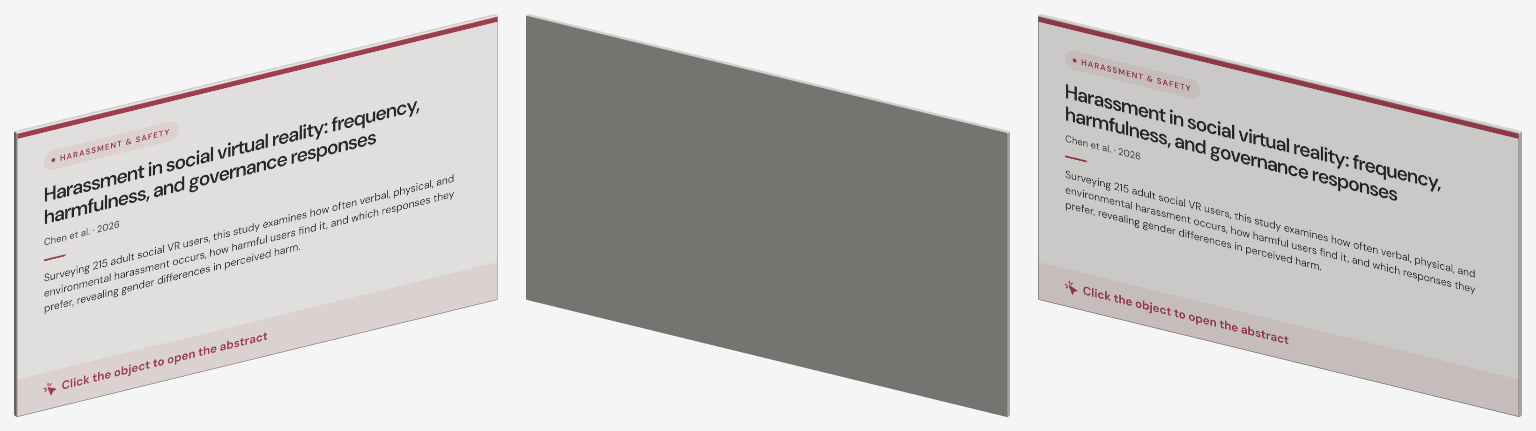
File: plaque-chen-2026.glb
The picture shows the model from 3 angles, left to right: view 1: azimuth 30°, elevation 25°; view 2: azimuth 150°, elevation 25°; view 3: azimuth 330°, elevation 25°; orthographic projection.
Parts seen in each view (by area): view 1: plaque-chen-2026; view 2: plaque-chen-2026; view 3: plaque-chen-2026.
Boxes of the visible parts, box(x1,y1,x2,y2) form: plaque-chen-2026: box(14, 14, 497, 416); plaque-chen-2026: box(526, 14, 1009, 416); plaque-chen-2026: box(1038, 14, 1521, 416).
Size of the model in its own units: 0.643 by 0.363 by 0.006.
Materials: 2 (1 with a texture image).
